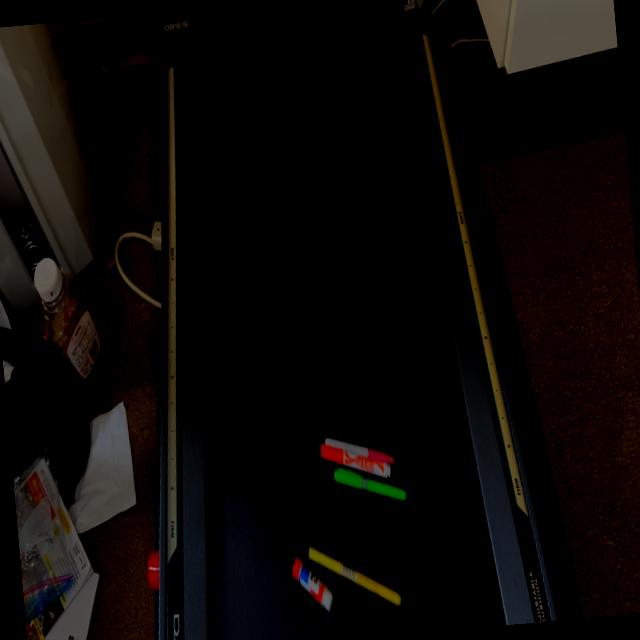Trash: (289, 536, 418, 626), (316, 429, 408, 512)
